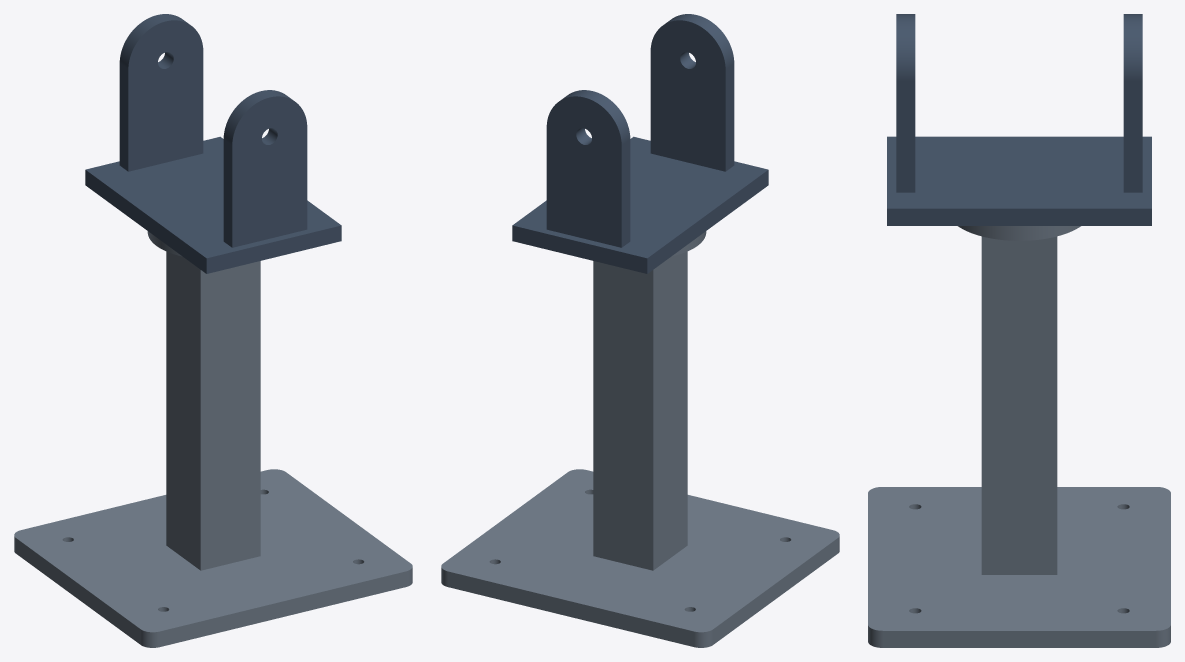
The model's file is telescope_mount.glb.
3 views of the same model, side by side, from view 1: azimuth 30°, elevation 25°; view 2: azimuth 150°, elevation 25°; view 3: azimuth 270°, elevation 25° (orthographic). The views are drawn at different scales.
Visible parts, largest first — view 1: telescope_mount (×2); view 2: telescope_mount (×2); view 3: telescope_mount (×2).
Part boxes in pixels (left/top/right/bottom): telescope_mount (×2): left=14, top=14, right=412, bottom=647; telescope_mount (×2): left=441, top=14, right=839, bottom=647; telescope_mount (×2): left=868, top=14, right=1170, bottom=647.
Size of the model in its own units: 0.18 by 0.325 by 0.16.
